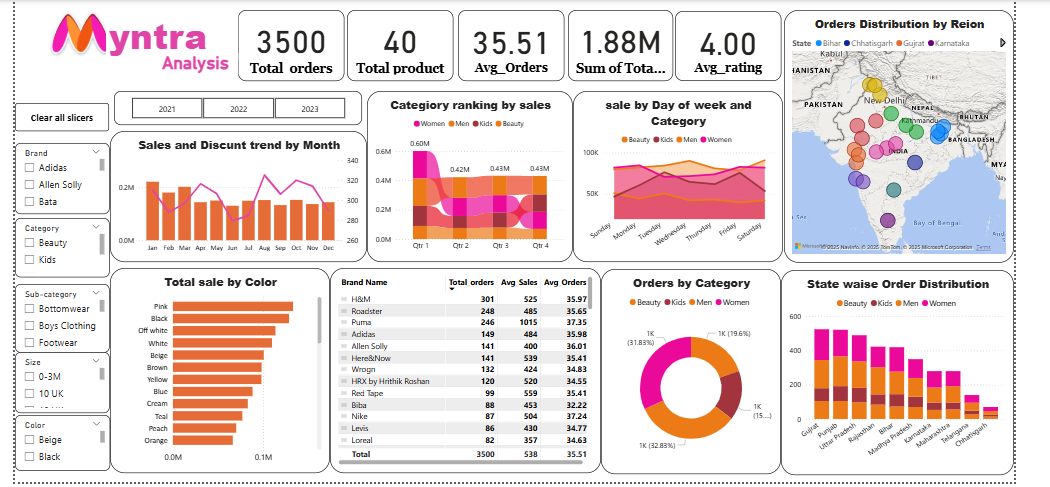

This screenshot's page, from the dashboard's own definition file:
{"tool":"powerbi","page":{"name":"Page 1","canvas":[1700,820],"ordinal":0},"visuals":[{"type":"card","fields":{"Values":["dim_products.Product Name"]},"box":[564.8,16.5,181,120.6],"z":0},{"type":"card","fields":{"Values":["Date_table.Avg_Orders"]},"box":[753.1,16.5,181,120.6],"z":1000},{"type":"card","fields":{"Values":["fact_orders.Total sale"]},"box":[941.4,16.5,179.1,120.6],"z":2000},{"type":"card","fields":{"Values":["fact_orders.Avg_rating"]},"box":[1122.4,18.3,181,118.8],"z":3000},{"type":"card","fields":{"Values":["fact_orders.Order ID"]},"box":[380.2,16.5,181,120.6],"z":4000},{"type":"lineStackedColumnComboChart","title":"Sales and Discunt trend by Month","fields":{"Y":["fact_orders.Total sale"],"Category":["Date_table.Month_Name"],"Y2":["fact_orders.Avg_Discount"]},"box":[161.6,222.9,437.2,222.9],"z":5000},{"type":"ribbonChart","title":"Categiory ranking by sales","fields":{"Y":["fact_orders.Total sale"],"Series":["dim_products.Category"],"Category":["Date_table.Date.Variation.Date Hierarchy.Quarter"]},"box":[598.8,154.8,350.5,290.9],"z":6000},{"type":"areaChart","title":" sale by Day of week and Category","fields":{"Category":["Date_table.Day of week"],"Y":["fact_orders.Total sale"],"Series":["dim_products.Category"]},"box":[949.3,154.8,357.3,290.9],"z":7000},{"type":"map","title":"Orders Distribution  by  Reion","fields":{"Size":["Date_table.Avg_Orders"],"Category":["dim_customers.City"],"Series":["dim_customers.State"]},"box":[1308.8,16.5,391.2,429.6],"z":8000},{"type":"columnChart","title":"State waise Order Distribution","fields":{"Category":["dim_customers.State"],"Y":["Date_table.Total_orders"],"Series":["dim_products.Category"]},"box":[1303.2,459.3,396.4,348.8],"z":9000},{"type":"donutChart","title":"Orders by Category","fields":{"Y":["Date_table.Total_orders"],"Series":["dim_products.Category"]},"box":[996.9,457.6,306.2,348.8],"z":10000},{"type":"pivotTable","fields":{"Rows":["dim_products.Brand Name","dim_products.Product Name"],"Values":["Date_table.Total_orders","Date_table.Avg_Sales","Date_table.Avg_Orders"]},"box":[535.9,455.9,461,348.8],"z":11000},{"type":"barChart","title":"Total sale by Color","fields":{"Y":["fact_orders.Total sale"],"Category":["dim_products.Color"]},"box":[161.6,455.9,374.3,348.8],"z":12000},{"type":"slicer","fields":{"Values":["Date_table.Year"]},"box":[168.2,155.4,422.3,58.5],"z":13000},{"type":"slicer","fields":{"Values":["dim_products.Brand Name"]},"box":[0,243.1,160.9,120.6],"z":14000},{"type":"slicer","fields":{"Values":["dim_products.Category"]},"box":[0,371.1,160.9,100.5],"z":15000},{"type":"slicer","fields":{"Values":["dim_products.Sub-category"]},"box":[0,482.6,160.9,117],"z":16000},{"type":"slicer","fields":{"Values":["dim_products.Size"]},"box":[0,599.6,160.9,104.2],"z":17000},{"type":"slicer","fields":{"Values":["dim_products.Color"]},"box":[0,706,161.6,95.3],"z":18000},{"type":"image","box":[12.8,0,197.4,120.6],"z":19000},{"type":"textbox","title":"yntra","box":[155.4,18.3,224.8,82.3],"z":20000},{"type":"textbox","title":"Analysis","box":[244.9,89.6,135.3,36.6],"z":21000},{"type":"actionButton","box":[0,176,160,48],"z":22000}]}

Visuals, with their boxes in screenshot pixels (x1, y1, x2, y2):
card - dim_products.Product Name: rect(344, 21, 450, 91)
card - Date_table.Avg_Orders: rect(454, 21, 560, 91)
card - fact_orders.Total sale: rect(565, 21, 670, 91)
card - fact_orders.Avg_rating: rect(671, 22, 777, 91)
card - fact_orders.Order ID: rect(236, 21, 342, 91)
"Sales and Discunt trend by Month" lineStackedColumnComboChart: rect(108, 141, 364, 272)
"Categiory ranking by sales" ribbonChart: rect(364, 102, 569, 272)
" sale by Day of week and Category" areaChart: rect(569, 102, 778, 272)
"Orders Distribution  by  Reion" map: rect(780, 21, 1009, 272)
"State waise Order Distribution" columnChart: rect(776, 280, 1009, 484)
"Orders by Category" donutChart: rect(597, 279, 776, 483)
pivotTable - dim_products.Brand Name x dim_products.Product Name: rect(327, 278, 597, 482)
"Total sale by Color" barChart: rect(108, 278, 327, 482)
slicer - Date_table.Year: rect(112, 102, 359, 136)
slicer - dim_products.Brand Name: rect(14, 153, 108, 224)
slicer - dim_products.Category: rect(14, 228, 108, 287)
slicer - dim_products.Sub-category: rect(14, 293, 108, 362)
slicer - dim_products.Size: rect(14, 362, 108, 423)
slicer - dim_products.Color: rect(14, 424, 108, 480)
image: rect(21, 11, 137, 82)
"yntra" textbox: rect(105, 22, 236, 70)
"Analysis" textbox: rect(157, 63, 236, 85)
actionButton: rect(14, 114, 107, 142)
